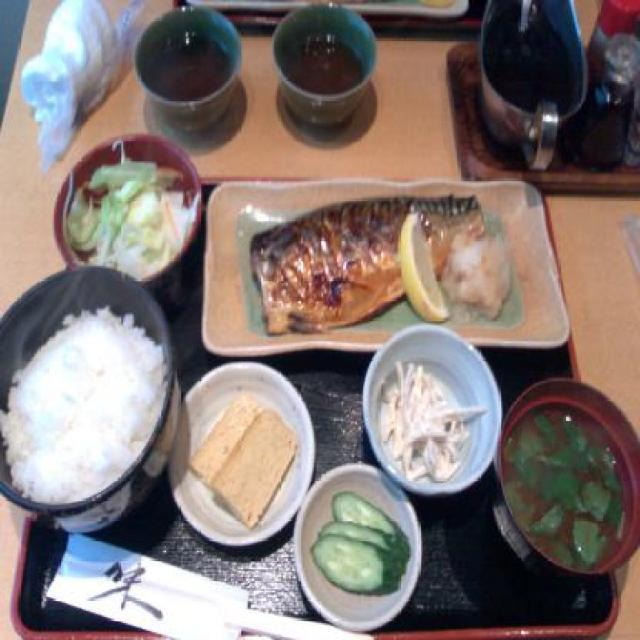Cucumber: (66, 163, 160, 252), (309, 533, 402, 595), (332, 490, 412, 555), (320, 520, 406, 572)
